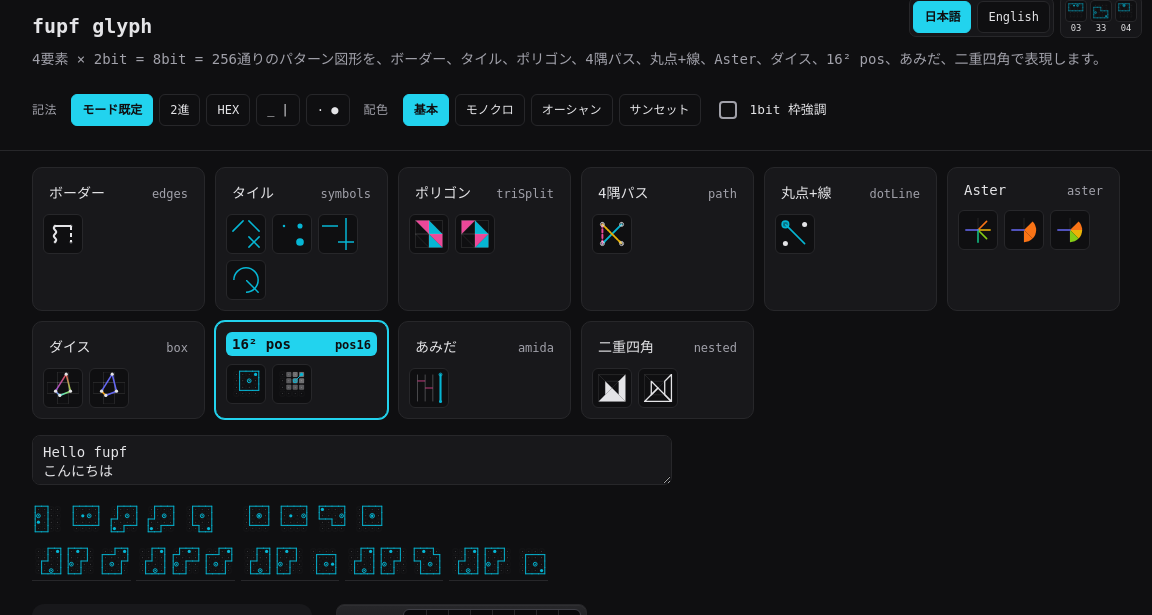
Test case: App › selects a cell on click
Click the button "ボーダー edges" at (118, 192), box [43,178,194,206]
(page scrolled)
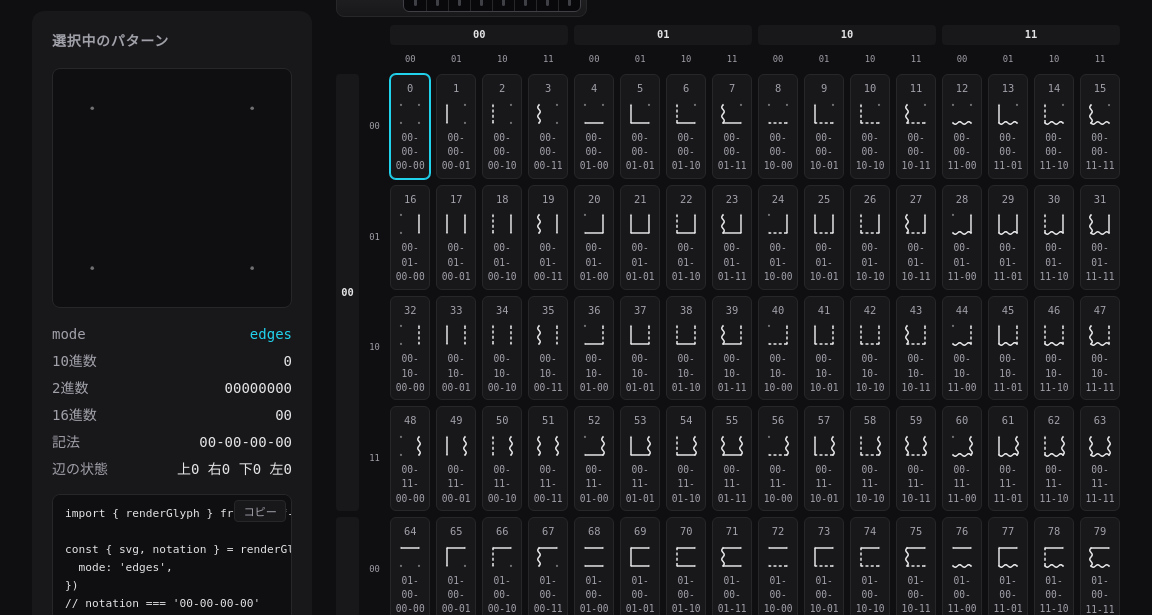
Click the element with id "cell-42" at (870, 348), box [850,296,890,400]
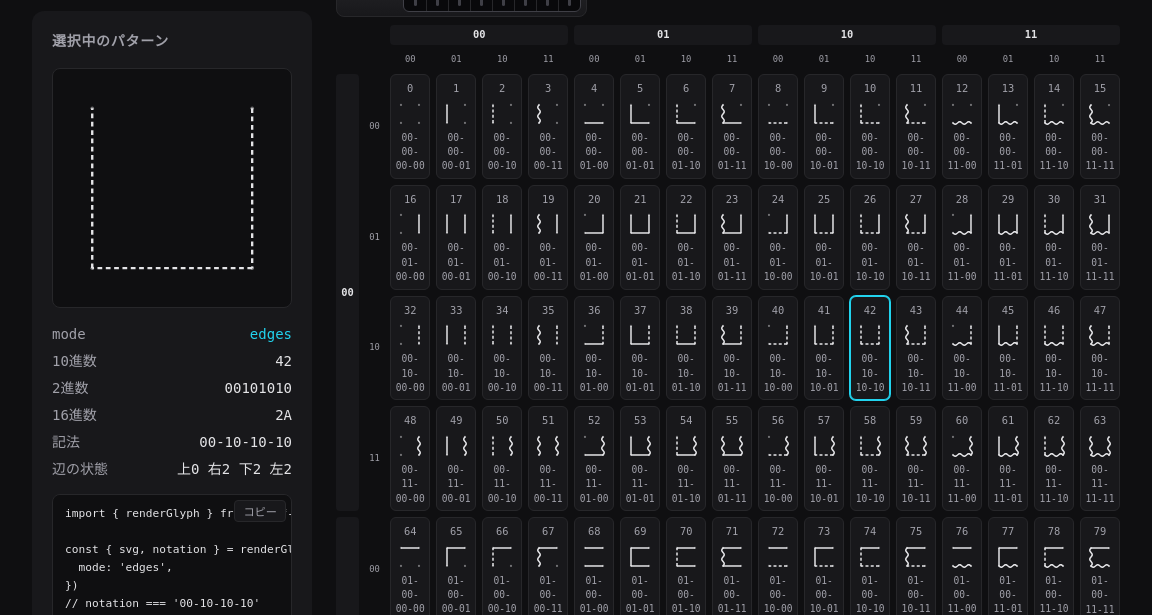
expect the text with id "infoDetail" reads "上0 右2 下2 左2": met, box [177,461,292,477]
